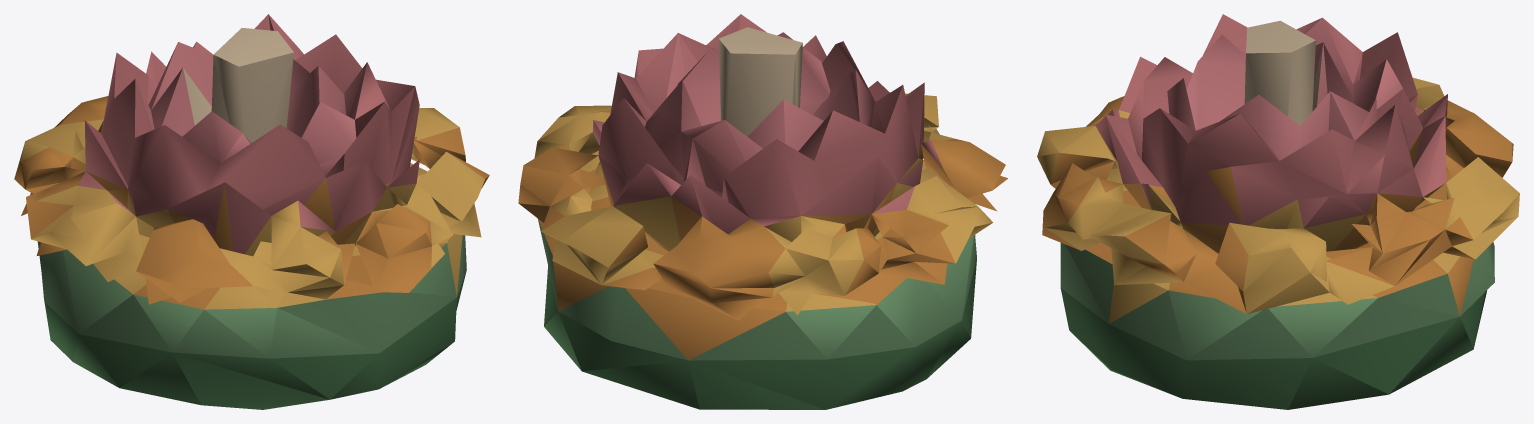
File: marigold_01.medium.glb
The picture shows the model from 3 angles, left to right: view 1: azimuth 30°, elevation 25°; view 2: azimuth 150°, elevation 25°; view 3: azimuth 270°, elevation 25°; orthographic projection. The views are drawn at different scales.
Size of the model in its own units: 2.18 by 1.45 by 2.2.
